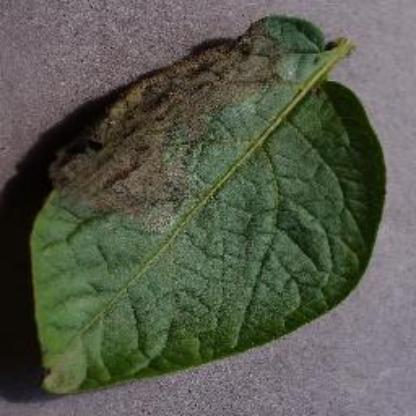Late-Blight: (21, 14, 389, 372)
